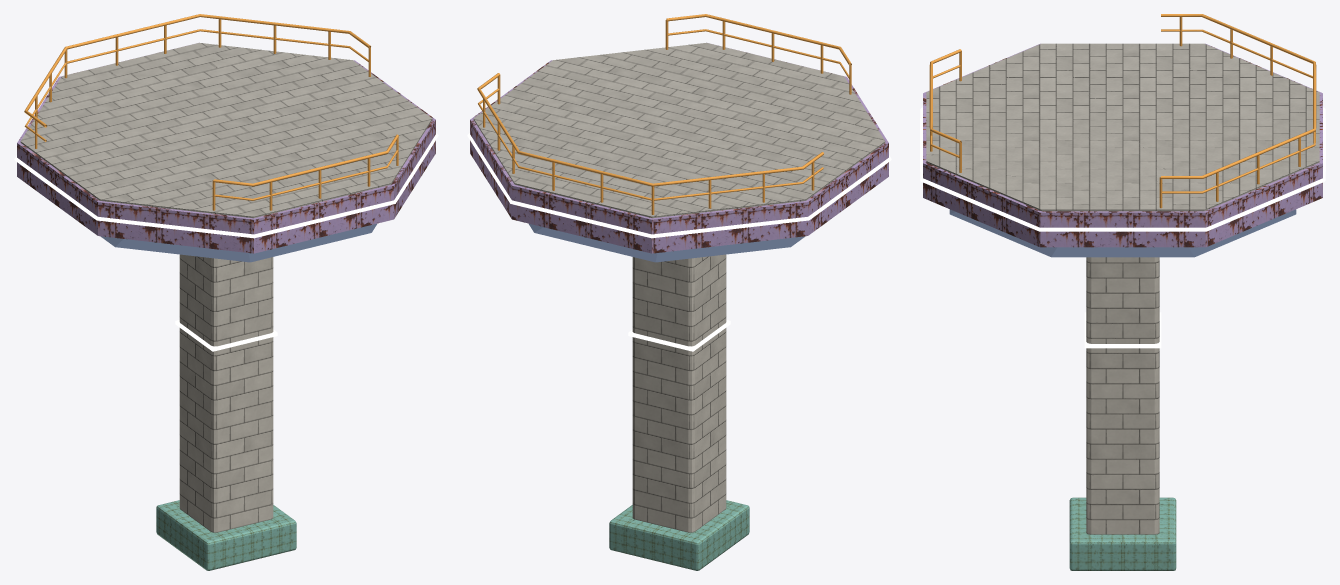
File: HubB.glb
3 views of the same model, side by side, from view 1: azimuth 30°, elevation 25°; view 2: azimuth 150°, elevation 25°; view 3: azimuth 270°, elevation 25° (orthographic). The views are drawn at different scales.
Parts seen in each view (by area): view 1: HubB_Top, HubB_Body, HubB_Under, HubB_ColBase, HubB_Glow; view 2: HubB_Top, HubB_Body, HubB_Under, HubB_ColBase, HubB_Glow; view 3: HubB_Top, HubB_Body, HubB_Under, HubB_ColBase, HubB_Glow.
Boxes of the visible parts, box(x1,y1,x2,y2) form: HubB_Top: box(20, 42, 432, 532); HubB_Body: box(17, 45, 435, 253); HubB_Under: box(24, 14, 398, 262); HubB_ColBase: box(156, 500, 296, 570); HubB_Glow: box(14, 133, 438, 351); HubB_Top: box(473, 42, 885, 532); HubB_Body: box(470, 45, 888, 253); HubB_Under: box(477, 14, 851, 262); HubB_ColBase: box(609, 500, 749, 570); HubB_Glow: box(467, 133, 891, 351); HubB_Top: box(926, 43, 1319, 534); HubB_Body: box(923, 43, 1322, 247); HubB_Under: box(929, 14, 1316, 257); HubB_ColBase: box(1069, 497, 1176, 570); HubB_Glow: box(920, 107, 1325, 348).
Bounding box in the file's own units: 12.18 × 15.05 × 12.18.
Materials: 5 (3 with a texture image).
